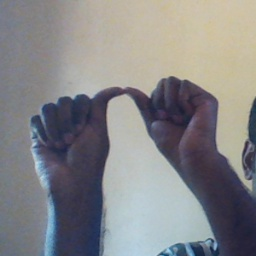A: (26, 75, 228, 185)
